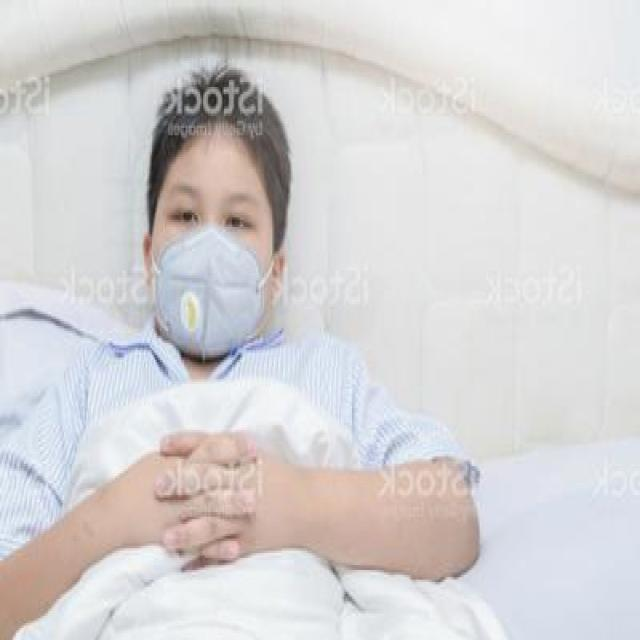face_mask: (152, 167, 274, 362)
hand_noglove: (159, 417, 260, 571)
head_nohelmet: (149, 96, 291, 172)
person: (0, 77, 495, 639)
